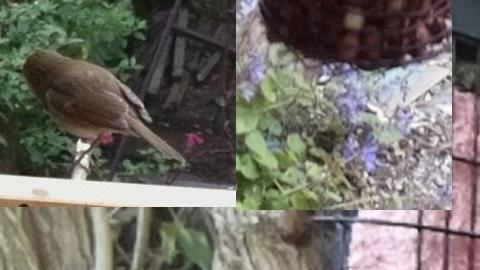robin: (14, 50, 186, 165)
